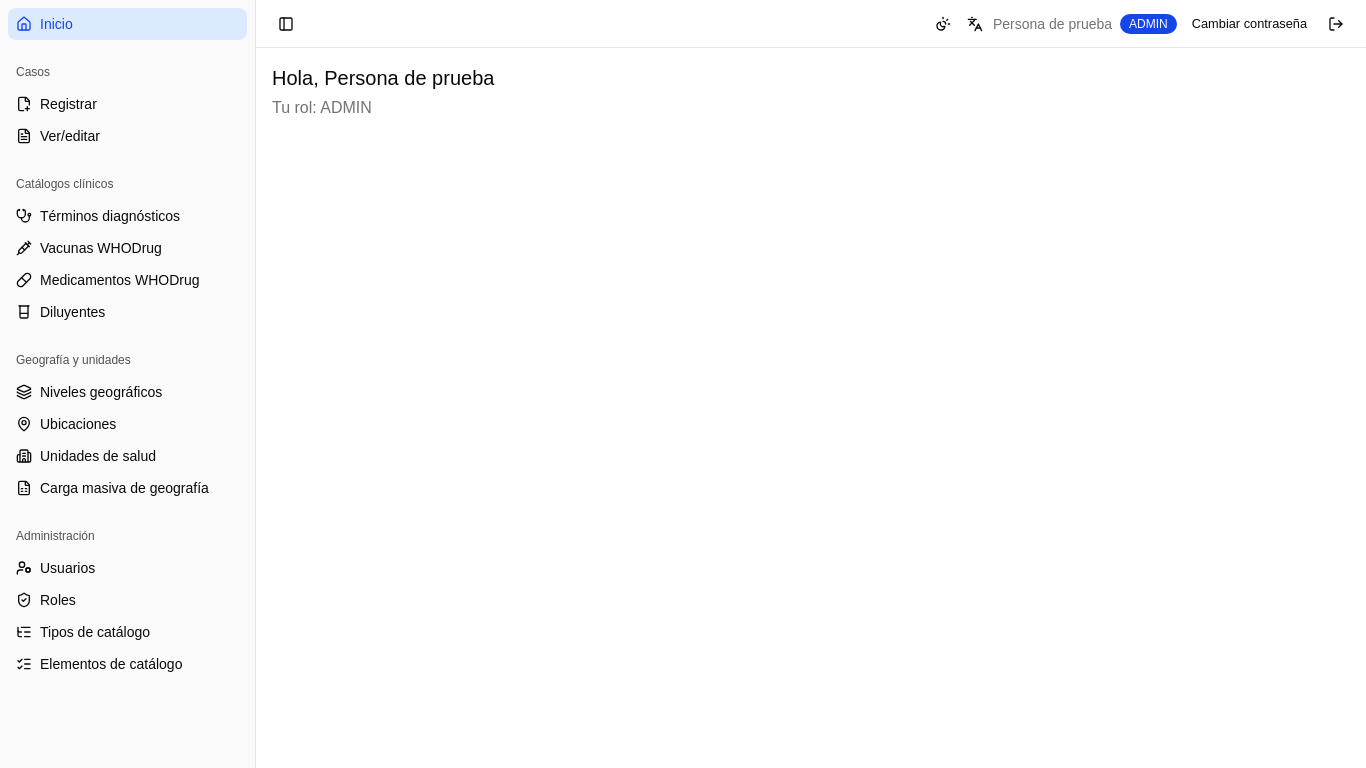
Ruta /health-facilities — navegación desde el sidebar › el enlace del sidebar navega a la pantalla de unidades de salud
The image size is (1366, 768).
Click the link "Unidades de salud". click: x=86, y=456
box: [16,448,156,464]
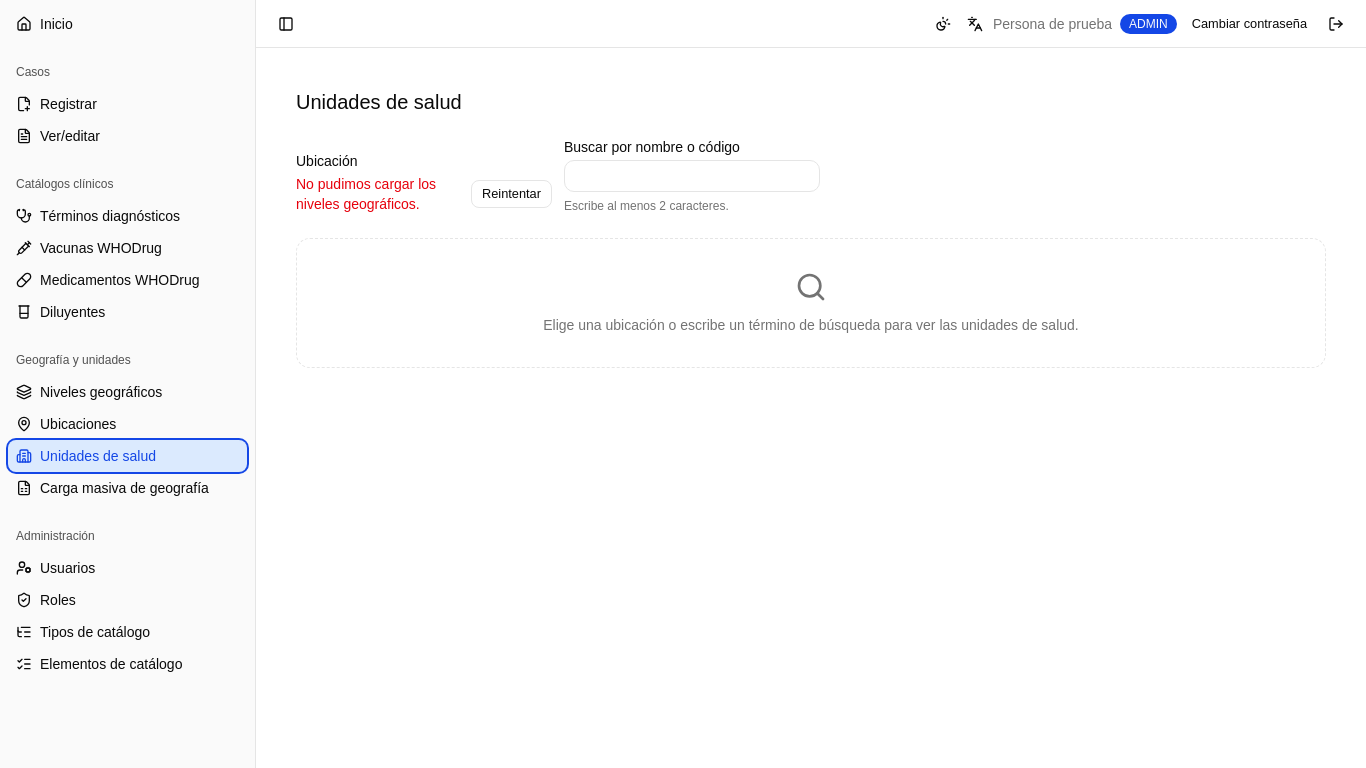
Check: the heading "Unidades de salud" is shown, box [296,91,462,113]
